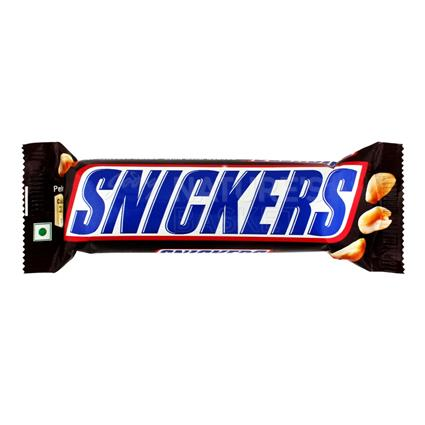snickers: (68, 166, 356, 234)
